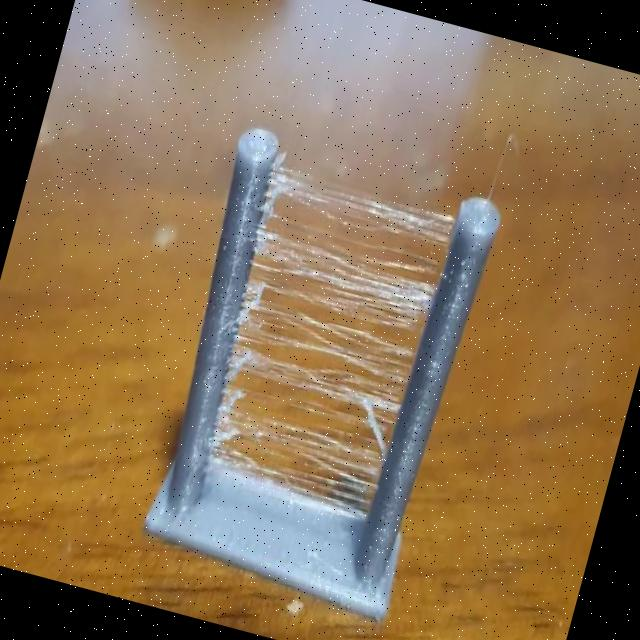stringing: (209, 161, 453, 509)
